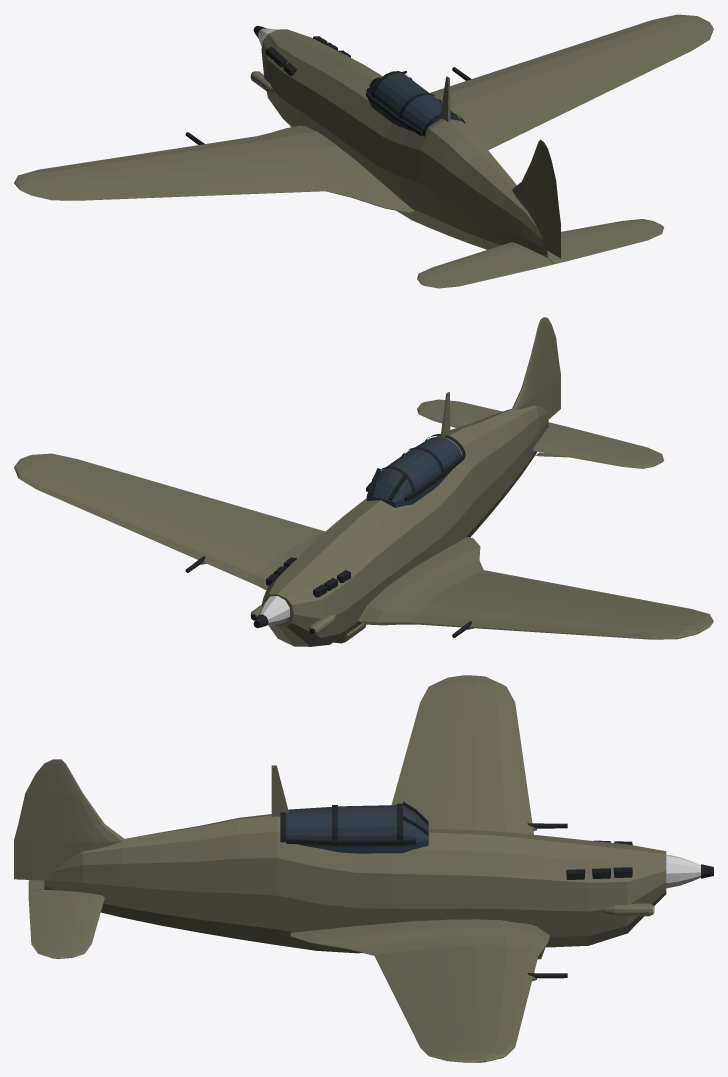
3 views of the same model, one above another, from view 1: azimuth 30°, elevation 25°; view 2: azimuth 150°, elevation 25°; view 3: azimuth 270°, elevation 25° (orthographic). The views are drawn at different scales.
Visible parts, largest first — view 1: Fuselage, Wing L, Wing R, Flap L, Cockpit Glass, Flap R, Aileron R, Rudder, Stabilizer L, Aileron L, Stabilizer R, Elevator L (+4 smaller); view 2: Fuselage, Wing L, Wing R, Cockpit Glass, Stabilizer L, Flap L, Rudder, Flap R, Aileron R, Vertical Fin, Canopy Frame, Aileron L (+4 smaller); view 3: Fuselage, Wing R, Wing L, Cockpit Glass, Rudder, Vertical Fin, Flap R, Stabilizer R, Aileron L, Canopy Frame, Elevator R, Aileron R (+5 smaller).
Part boxes in pixels (x1=…): Fuselage: x1=261, y1=29, x2=548, y2=257; Wing L: x1=14, y1=125, x2=414, y2=212; Wing R: x1=430, y1=14, x2=713, y2=132; Flap L: x1=196, y1=174, x2=388, y2=209; Cockpit Glass: x1=366, y1=73, x2=461, y2=131; Flap R: x1=473, y1=92, x2=580, y2=150; Aileron R: x1=573, y1=36, x2=701, y2=102; Rudder: x1=537, y1=140, x2=560, y2=258; Stabilizer L: x1=417, y1=242, x2=539, y2=284; Aileron L: x1=54, y1=182, x2=202, y2=200; Stabilizer R: x1=548, y1=219, x2=662, y2=252; Elevator L: x1=423, y1=254, x2=553, y2=288; Fuselage: x1=261, y1=405, x2=548, y2=646; Wing L: x1=358, y1=537, x2=713, y2=639; Wing R: x1=14, y1=453, x2=317, y2=589; Cockpit Glass: x1=366, y1=437, x2=461, y2=507; Stabilizer L: x1=533, y1=430, x2=662, y2=468; Flap L: x1=454, y1=545, x2=579, y2=594; Rudder: x1=541, y1=317, x2=560, y2=420; Flap R: x1=196, y1=498, x2=325, y2=539; Aileron R: x1=54, y1=456, x2=202, y2=502; Vertical Fin: x1=512, y1=319, x2=542, y2=409; Canopy Frame: x1=366, y1=434, x2=465, y2=501; Aileron L: x1=573, y1=589, x2=701, y2=616; Fuselage: x1=44, y1=814, x2=666, y2=953; Wing R: x1=290, y1=919, x2=567, y2=1062; Wing L: x1=395, y1=675, x2=567, y2=834; Cockpit Glass: x1=286, y1=805, x2=428, y2=853; Rudder: x1=14, y1=759, x2=61, y2=880; Vertical Fin: x1=60, y1=759, x2=124, y2=864; Flap R: x1=306, y1=933, x2=427, y2=997; Stabilizer R: x1=52, y1=890, x2=104, y2=958; Aileron L: x1=397, y1=691, x2=445, y2=785; Canopy Frame: x1=280, y1=801, x2=428, y2=845; Elevator R: x1=28, y1=889, x2=57, y2=958; Aileron R: x1=397, y1=997, x2=444, y2=1052.
Size of the model in its own units: 10.6 by 2.5 by 8.1.
